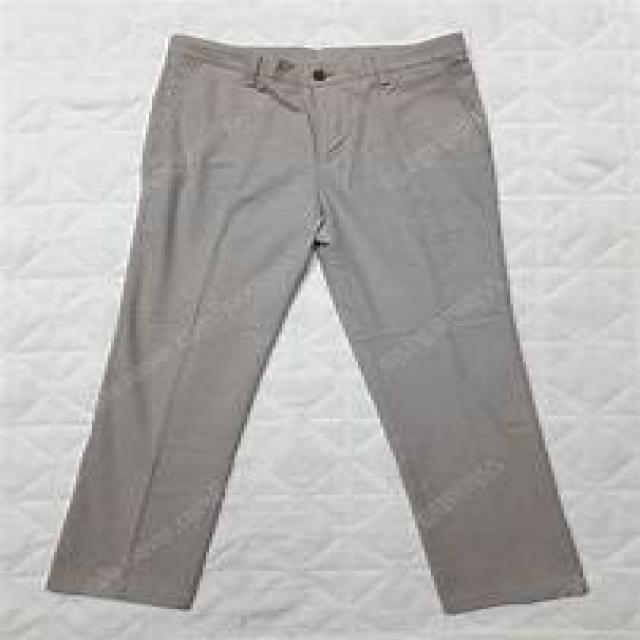long-pants: (49, 31, 590, 618)
